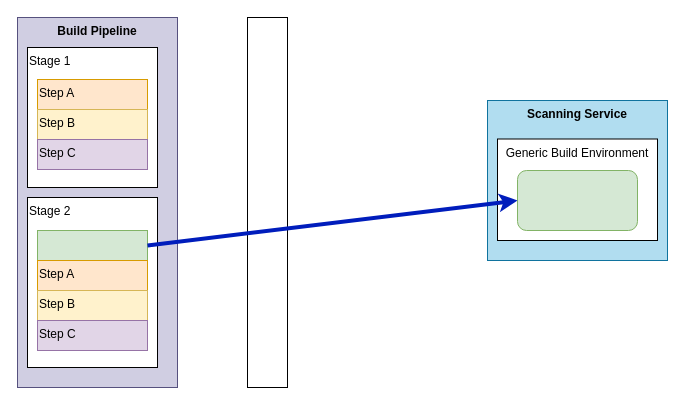
Some shapes in this 685 by 405 pixel diagram are drawn without their labels. The centre of each missing label's shape, as x and y in pixels:
"Dependency Scan" goes at (577,200).
"Firewall" goes at (267,202).
"Supply Chain Scan" goes at (92,245).
